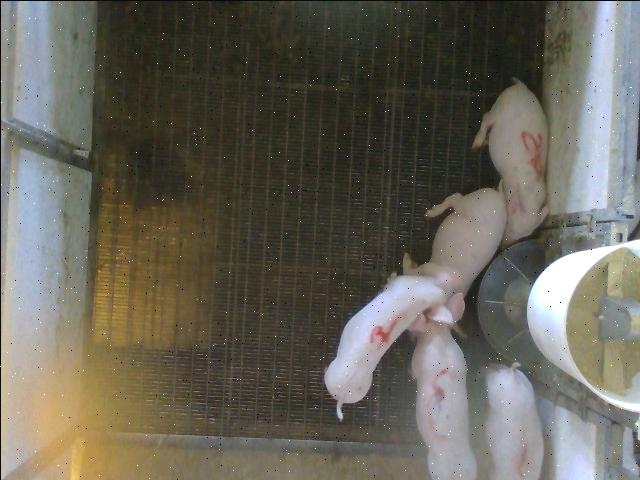pig-1: (485, 362, 540, 479)
pig-3: (411, 319, 476, 479)
pig-4: (324, 270, 459, 418)
pig-5: (471, 78, 549, 244)
